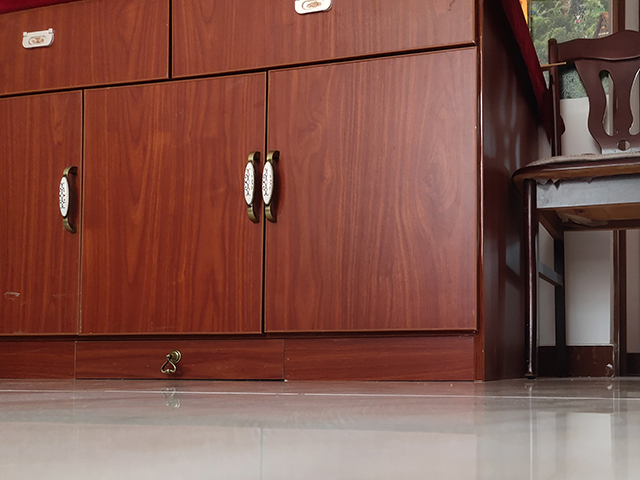cabinet: (1, 1, 544, 384)
stool: (509, 29, 640, 380)
